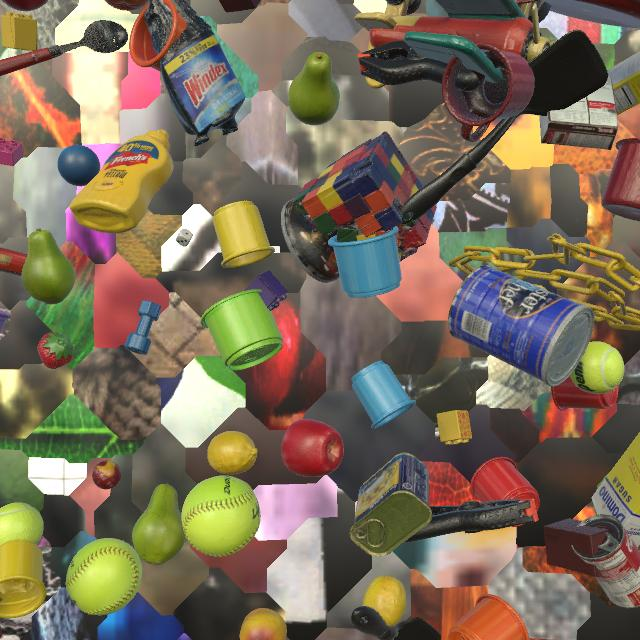ycb_002_master_chef_can: (448, 265, 595, 387)
ycb_004_sugar_box: (591, 432, 640, 548), (607, 51, 640, 115)
ycb_005_tomato_soup_can: (571, 514, 640, 608)
ycb_006_mustard_bottle: (70, 129, 173, 233)
ycb_008_pudding_box: (539, 76, 618, 150)
ycb_010_potted_meat_can: (350, 453, 432, 557)
ycb_012_strawberry: (37, 332, 73, 369)
ycb_013_apple: (281, 419, 344, 477), (2, 0, 48, 11)
ycb_014_lemon: (207, 431, 258, 475), (363, 575, 406, 627)
ycb_015_peach: (240, 608, 287, 640)
ycb_016_pear: (132, 484, 186, 565), (21, 228, 76, 305), (288, 52, 340, 125)
ycb_017_orange: (104, 0, 150, 11)
